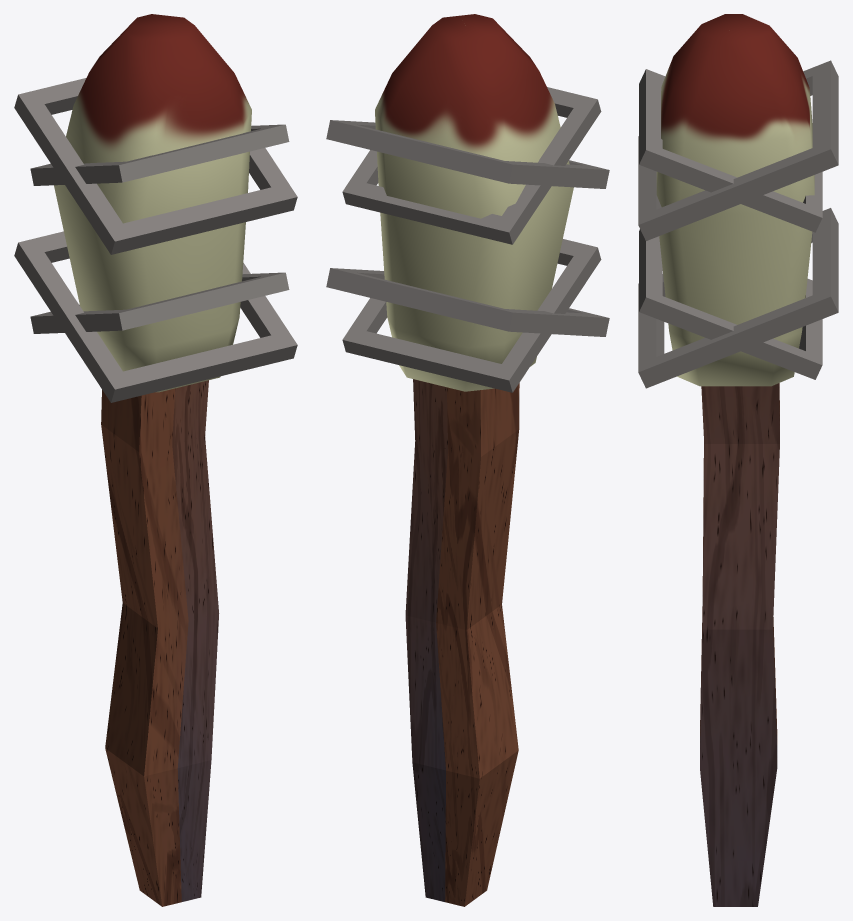
Rendered from torchbase2.fbx.
The picture shows the model from 3 angles, left to right: view 1: azimuth 30°, elevation 25°; view 2: azimuth 150°, elevation 25°; view 3: azimuth 270°, elevation 25°; orthographic projection.
Parts seen in each view (by area): view 1: Cube.001, Cube.002, Cube.004; view 2: Cube.001, Cube.002, Cube.004; view 3: Cube.002, Cube.001, Cube.004.
Part boxes in pixels (<box>): Cube.001: <box>101,380,219,906</box>; Cube.002: <box>54,14,251,392</box>; Cube.004: <box>14,78,297,402</box>; Cube.001: <box>405,379,519,906</box>; Cube.002: <box>375,14,573,391</box>; Cube.004: <box>326,87,609,392</box>; Cube.002: <box>656,14,814,386</box>; Cube.001: <box>700,383,779,906</box>; Cube.004: <box>638,60,838,388</box>.
Bounding box in the file's own units: 0.4057 × 1.84 × 0.387.
